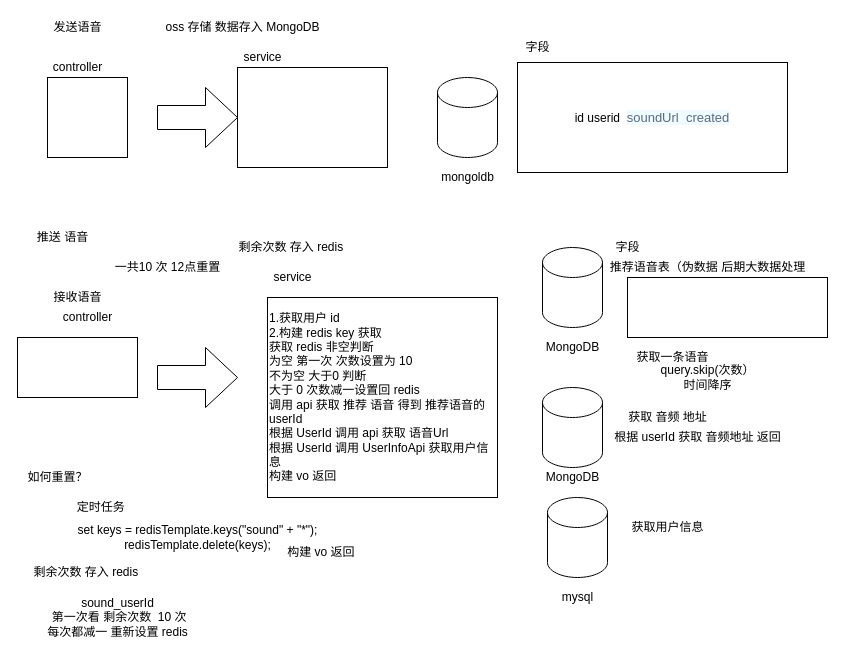
The diagram is 845 pixels wide and 659 high, and some of its shapes have lost their labels. Each missing label, with the centre of its shape:
1.获取用户 Id 2.上传文件到 oss 3.获取 url 4.构建 pojo 5.调用 api 存入 数据库: the point at 312,117
id userId toUserId created: the point at 727,307
